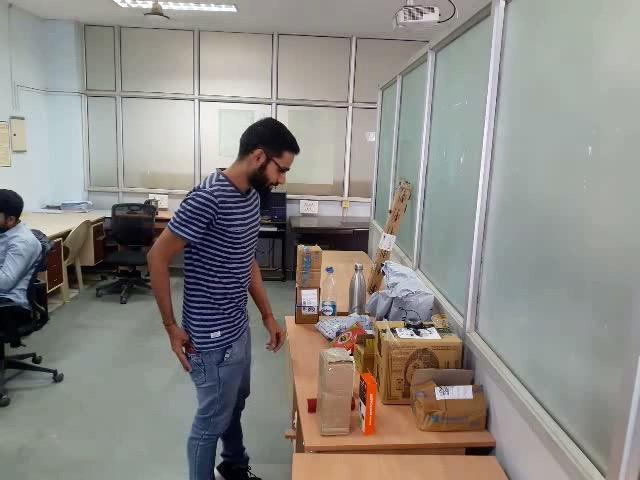shoplifting: (119, 304, 272, 403)
